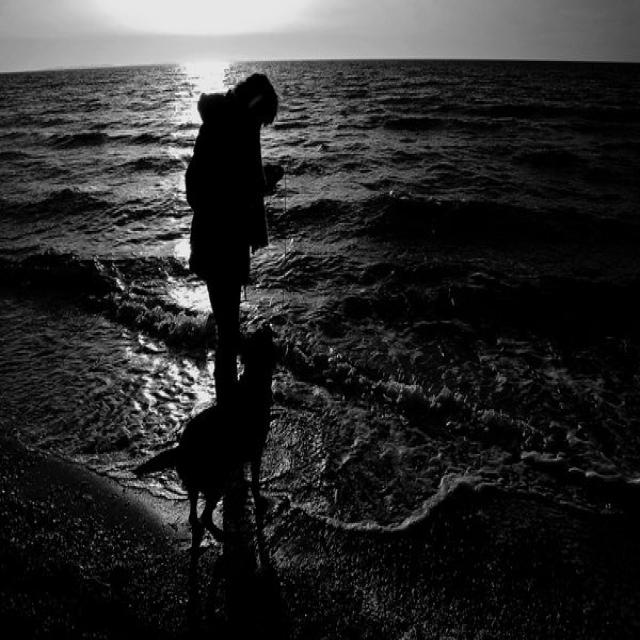Dog: (148, 337, 345, 565)
